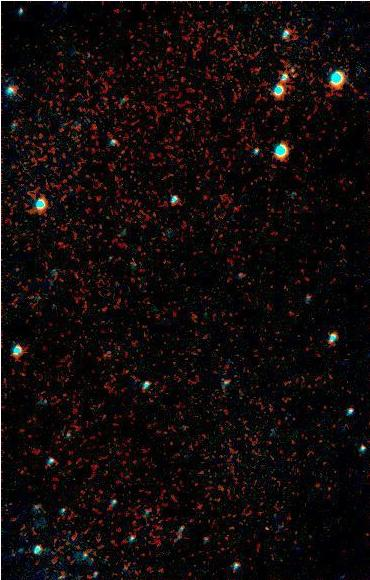star: (277, 53, 307, 83)
